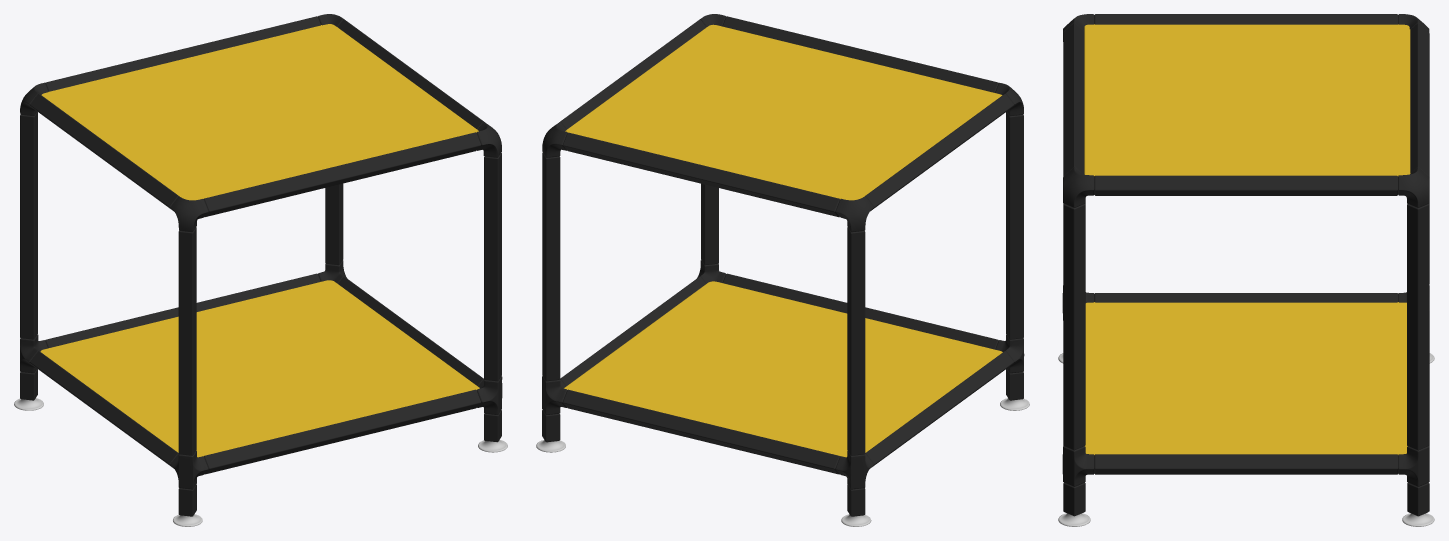
3 renders of one model, left to right at view 1: azimuth 30°, elevation 25°; view 2: azimuth 150°, elevation 25°; view 3: azimuth 270°, elevation 25°, orthographic. The views are drawn at different scales.
Visible parts, largest first — view 1: 420x374x330; view 2: 420x374x330; view 3: 420x374x330.
Boxes of the visible parts, <box> form: 420x374x330: <box>14,14,507,526</box>; 420x374x330: <box>536,14,1029,526</box>; 420x374x330: <box>1058,14,1434,526</box>.
Bounding box in the file's own units: 0.5099 × 0.4683 × 0.4631.
